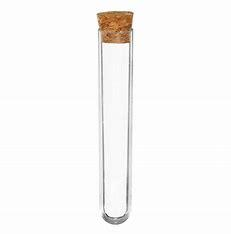Test tube: (86, 13, 135, 227)
